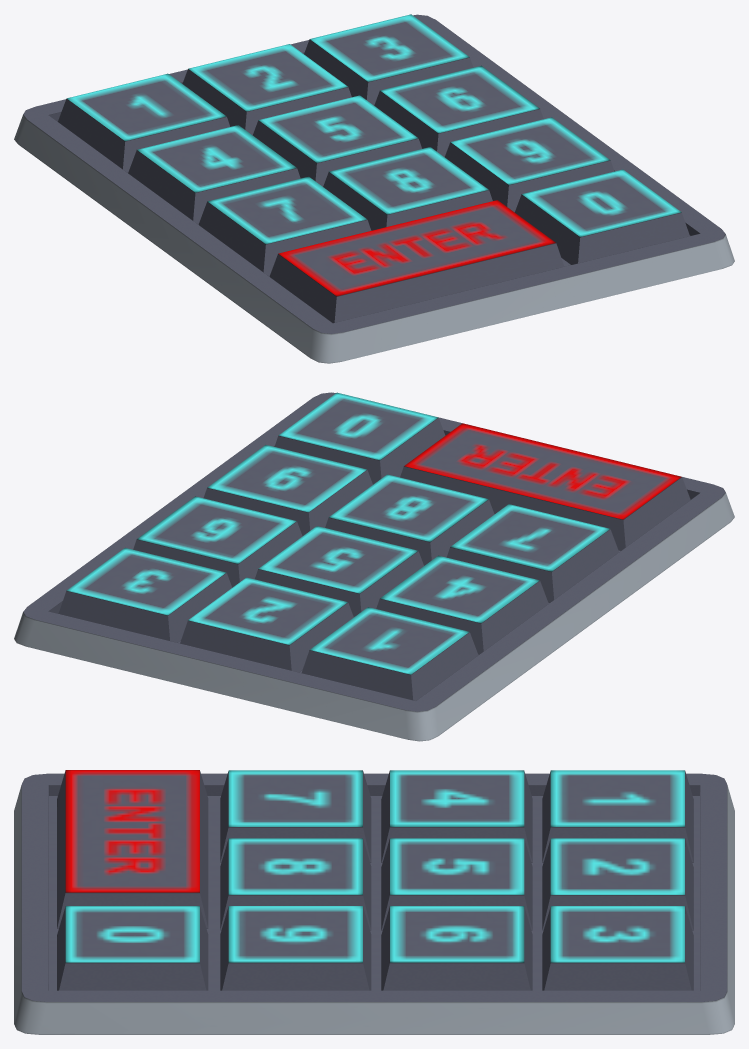
File: Panel_Button_Code_01.FBX
The picture shows the model from 3 angles, top to bottom: view 1: azimuth 30°, elevation 25°; view 2: azimuth 150°, elevation 25°; view 3: azimuth 270°, elevation 25°; orthographic projection. The views are drawn at different scales.
Parts seen in each view (by area): view 1: Panel_Button_Code_01, Button_Enter, Button_00, Button_07, Button_04, Button_01, Button_09, Button_06, Button_05, Button_03, Button_02, Button_08; view 2: Panel_Button_Code_01, Button_Enter, Button_01, Button_02, Button_03, Button_07, Button_04, Button_00, Button_09, Button_08, Button_06, Button_05; view 3: Panel_Button_Code_01, Button_Enter, Button_03, Button_06, Button_00, Button_09, Button_04, Button_07, Button_01, Button_02, Button_05, Button_08.
Boxes of the visible parts, box(x1,y1,x2,y2) form: Panel_Button_Code_01: box(14, 14, 734, 363); Button_Enter: box(269, 200, 564, 322); Button_00: box(515, 169, 689, 264); Button_07: box(198, 176, 371, 275); Button_04: box(128, 125, 300, 223); Button_01: box(58, 73, 230, 172); Button_09: box(445, 117, 614, 212); Button_06: box(374, 65, 543, 156); Button_05: box(252, 95, 421, 186); Button_03: box(304, 14, 473, 105); Button_02: box(182, 44, 351, 134); Button_08: box(323, 147, 492, 230); Panel_Button_Code_01: box(14, 392, 734, 741); Button_Enter: box(400, 423, 690, 550); Button_01: box(301, 607, 478, 700); Button_02: box(180, 577, 353, 672); Button_03: box(58, 548, 232, 642); Button_07: box(446, 504, 618, 602); Button_04: box(376, 555, 548, 654); Button_00: box(274, 392, 445, 484); Button_09: box(203, 445, 372, 535); Button_08: box(325, 474, 494, 565); Button_06: box(133, 496, 302, 587); Button_05: box(255, 526, 423, 616); Panel_Button_Code_01: box(14, 773, 734, 1034); Button_Enter: box(57, 770, 208, 928); Button_03: box(542, 906, 693, 990); Button_06: box(381, 906, 532, 990); Button_00: box(57, 906, 208, 990); Button_09: box(220, 906, 371, 990); Button_04: box(381, 770, 532, 862); Button_07: box(220, 770, 371, 862); Button_01: box(542, 770, 693, 862); Button_02: box(542, 838, 693, 930); Button_05: box(381, 838, 532, 930); Button_08: box(220, 838, 371, 930).
Bounding box in the file's own units: 0.8657 × 0.0877 × 1.12.
